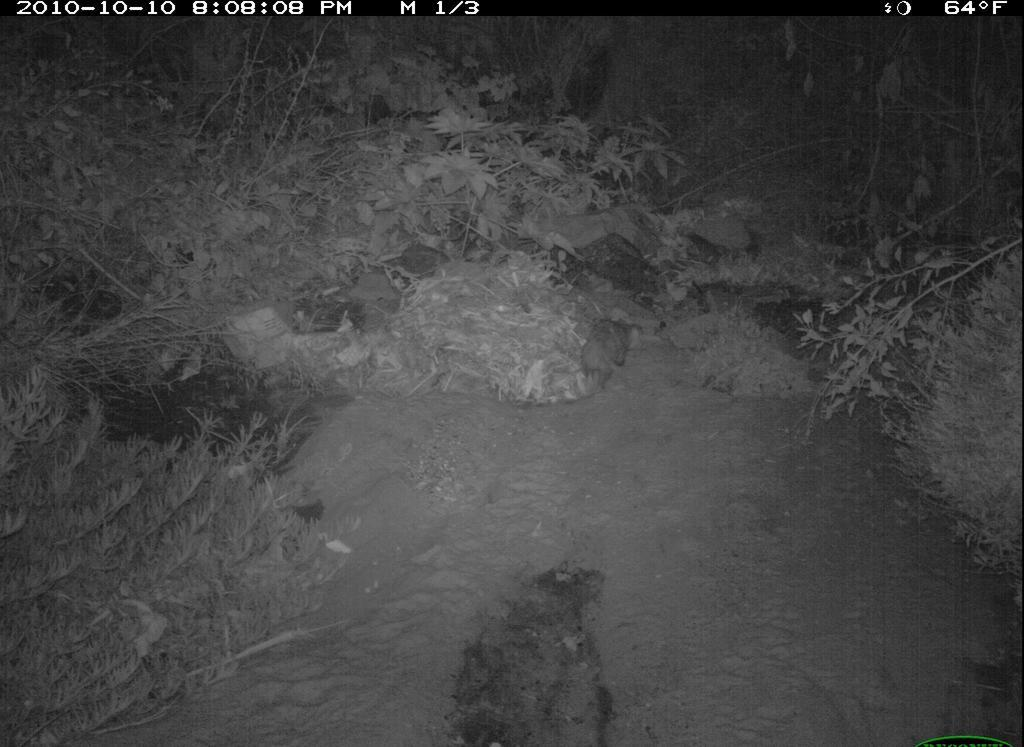opossum: (569, 305, 648, 387)
